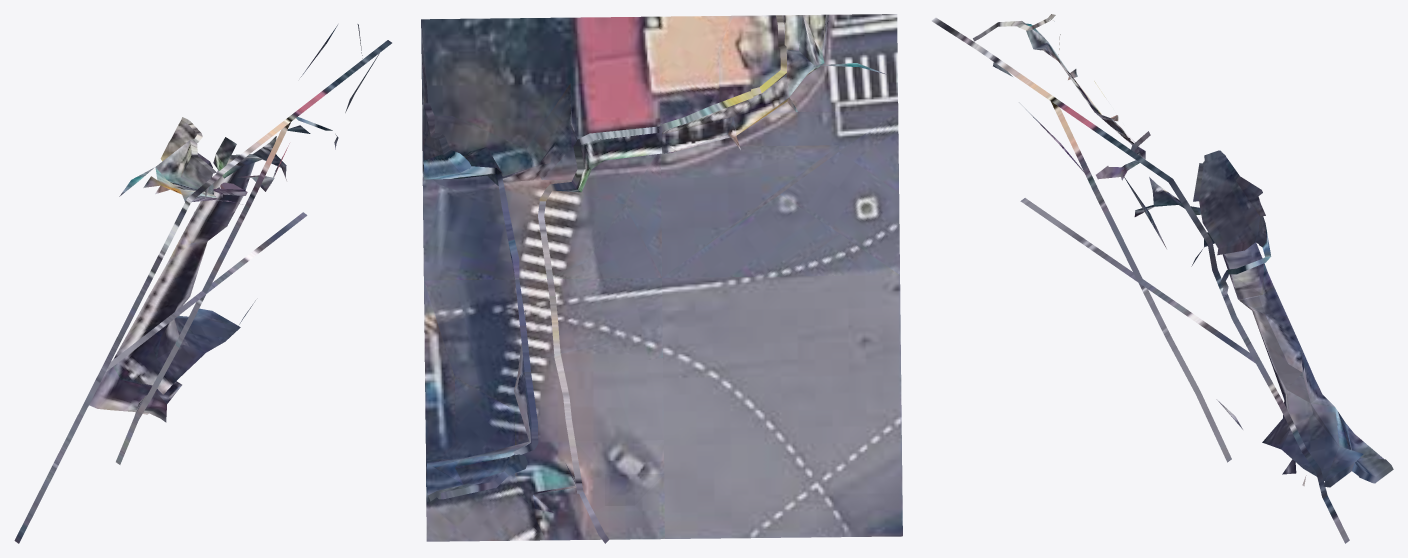
The picture shows the model from 3 angles, left to right: view 1: azimuth 30°, elevation 25°; view 2: azimuth 150°, elevation 25°; view 3: azimuth 270°, elevation 25°; orthographic projection. The views are drawn at different scales.
Bounding box in the file's own units: 38.11 × 37.16 × 35.54.
1 material, 1 textured.
